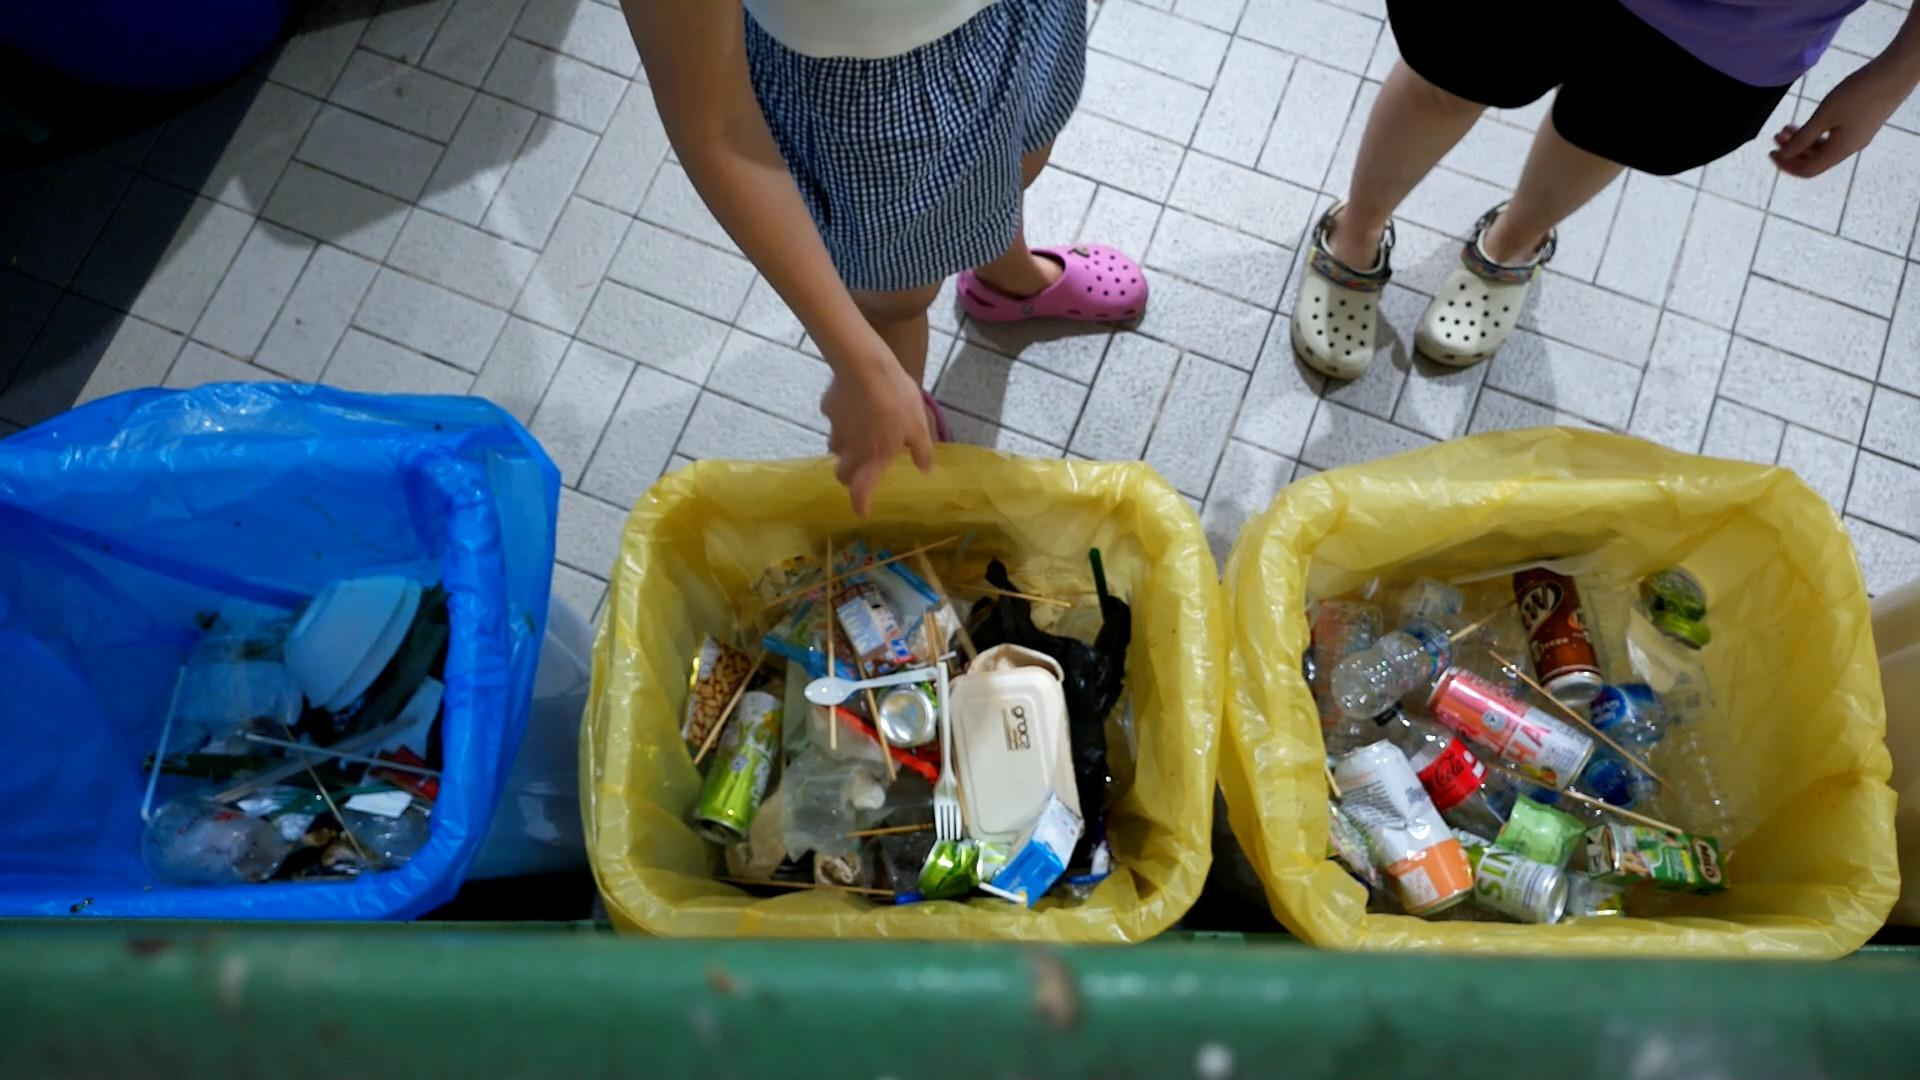can: (1333, 740, 1480, 919), (1427, 665, 1602, 799), (686, 684, 789, 845), (1511, 554, 1606, 711), (1448, 823, 1576, 931), (1636, 564, 1720, 651), (910, 833, 985, 899)
food container: (952, 645, 1084, 852), (284, 574, 426, 713)
milk carton: (1582, 818, 1735, 898), (993, 794, 1089, 909), (839, 578, 915, 692)
plastic bag: (742, 708, 894, 865)
plastic bottle: (1654, 642, 1753, 853), (1332, 613, 1476, 721), (1585, 663, 1679, 818)
plastic cutlery: (1440, 547, 1602, 589), (806, 661, 942, 709), (931, 658, 967, 843)
snack packaging: (678, 622, 782, 750)
sticks: (1490, 658, 1672, 779), (222, 716, 422, 812), (761, 529, 964, 608), (276, 716, 376, 861), (1514, 760, 1688, 841), (232, 727, 451, 783), (688, 640, 775, 771), (690, 641, 771, 771), (708, 866, 897, 899), (1418, 621, 1506, 691), (934, 575, 1075, 608), (822, 517, 841, 752), (845, 818, 919, 841)
straw: (137, 663, 208, 824)
